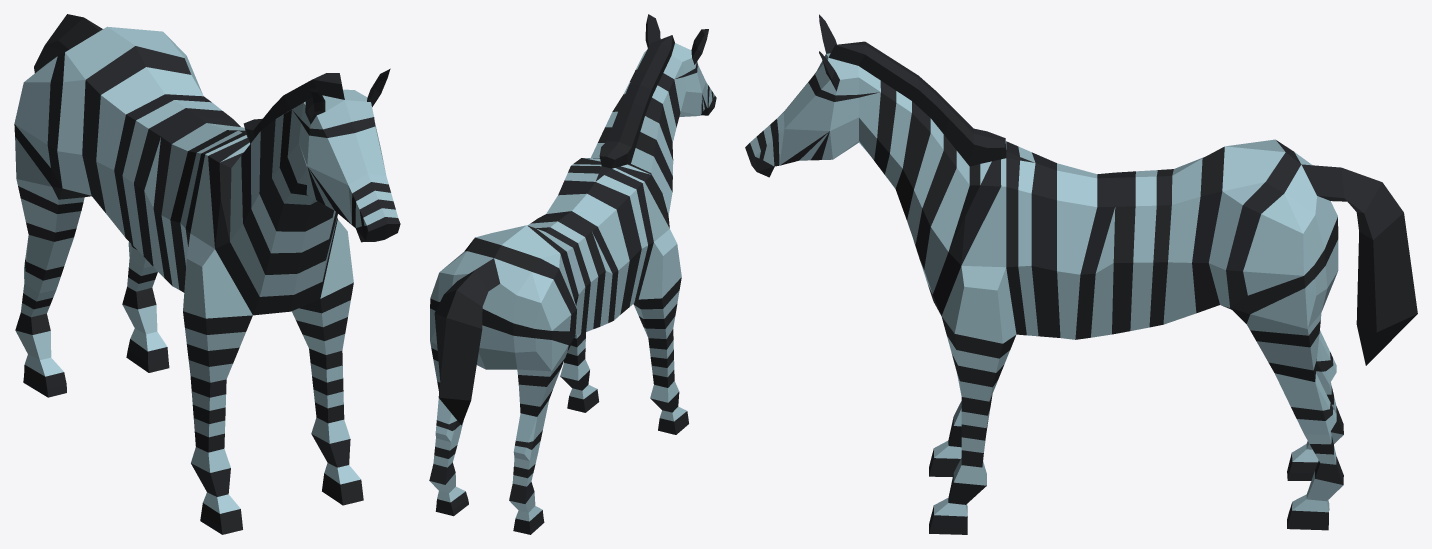
Rendered from cc0-zebra-lod0.glb.
3 views of the same model, side by side, from view 1: azimuth 30°, elevation 25°; view 2: azimuth 150°, elevation 25°; view 3: azimuth 270°, elevation 25° (orthographic). The views are drawn at different scales.
Visible parts, largest first — view 1: part_0; view 2: part_0; view 3: part_0.
Boxes of the visible parts, <box> form: part_0: <box>14,14,400,534</box>; part_0: <box>429,14,716,534</box>; part_0: <box>745,14,1417,534</box>.
Size of the model in its own units: 2.56 by 7.07 by 9.23.
